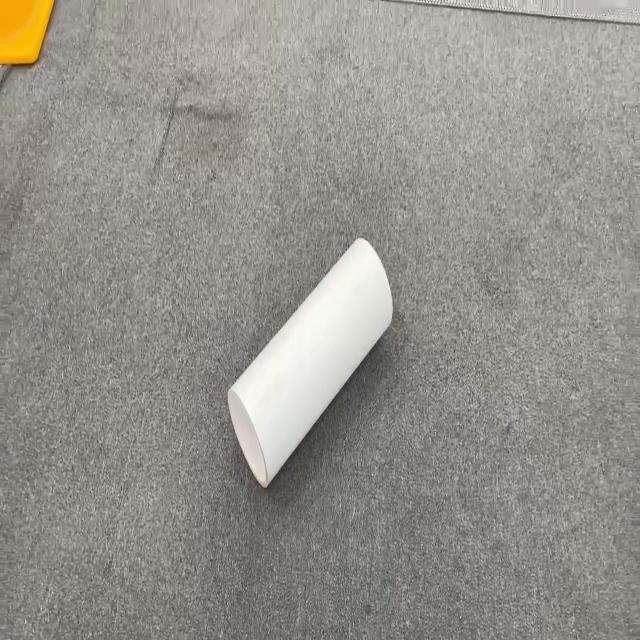coral: (226, 235, 394, 489)
